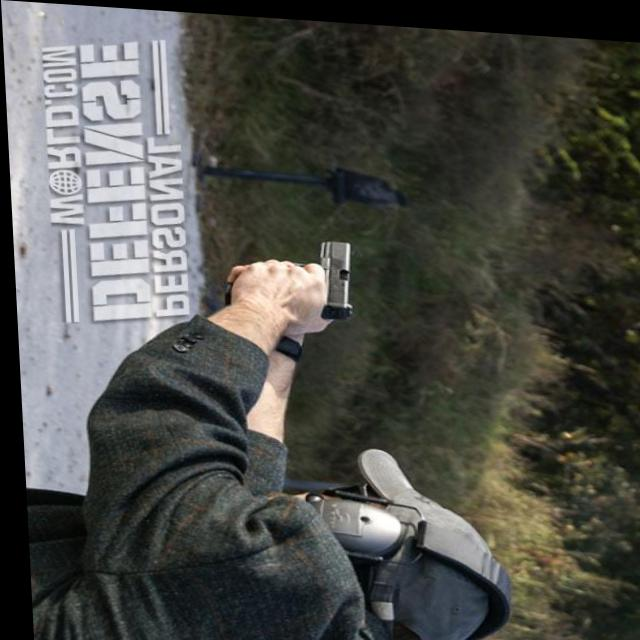handgun: (218, 230, 358, 316)
